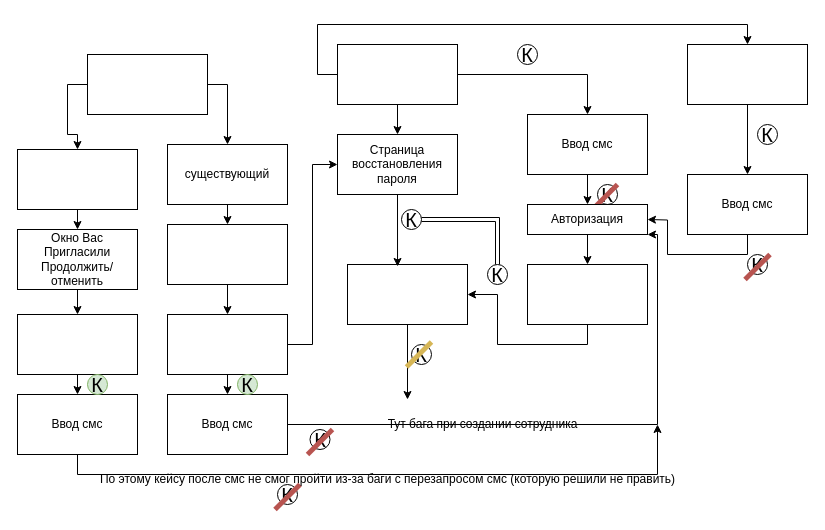
Some shapes in this 825 by 530 pixel diagram are drawn without their labels. The centre of each missing label's shape, as x and y in pixels:
"Ввод пароля" goes at (x=227, y=344).
"Зарегистрироваться: Ввод телефона и пароля" goes at (x=747, y=74).
"ЛК => Сброс пароля" goes at (x=587, y=294).
"новый" goes at (x=77, y=179).
"Окно Вас Пригласили Войти/отменить" goes at (x=227, y=254).
"почта" goes at (x=147, y=84).
"Создайте пароль" goes at (x=77, y=344).
"Страница ввода нового пароля" goes at (x=407, y=294).
"Страница входа" goes at (x=397, y=74).
